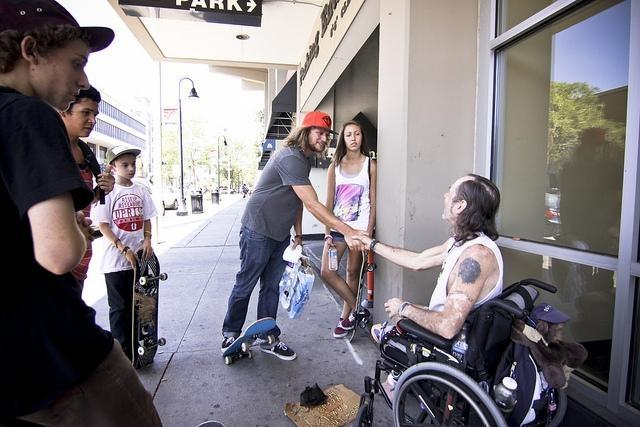car: (160, 186, 181, 209), (218, 188, 228, 196)
